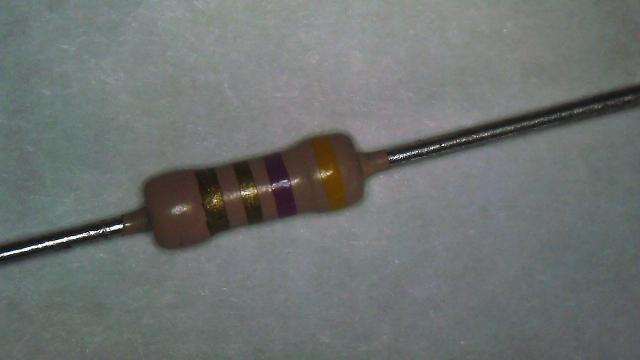gold: (196, 168, 228, 233), (234, 161, 262, 223)
resistor: (116, 97, 401, 282)
violet: (264, 152, 297, 217)
yellow: (312, 136, 346, 210)
